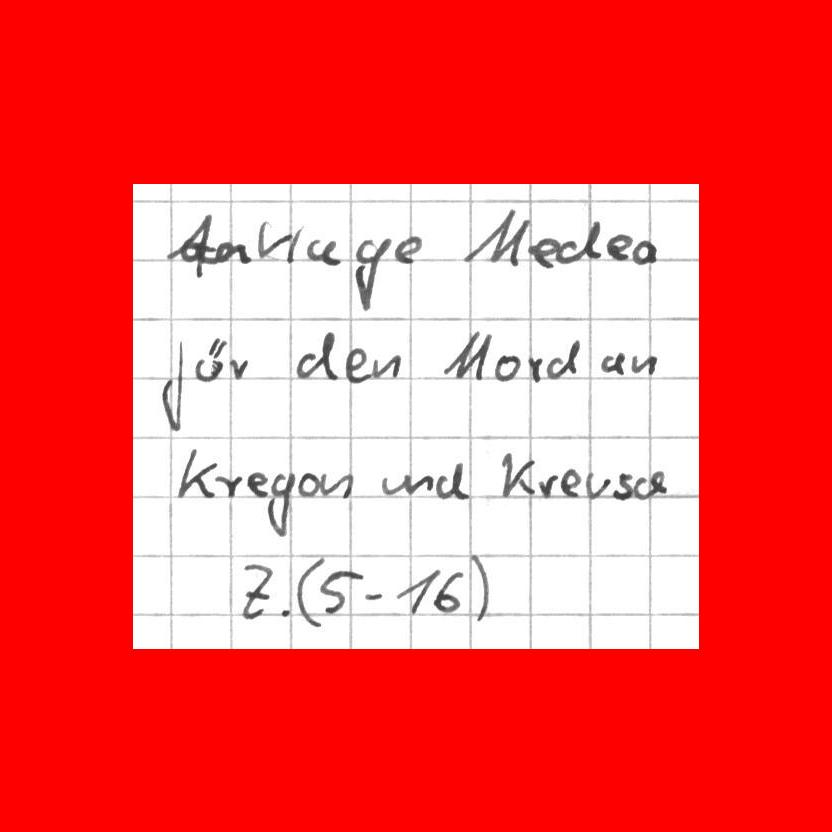Char: (465, 211, 529, 268), (163, 209, 212, 273), (351, 236, 390, 311), (441, 328, 493, 381), (292, 326, 342, 381), (158, 340, 189, 424), (395, 564, 440, 615), (320, 564, 361, 619), (294, 557, 325, 628), (257, 217, 301, 267), (554, 218, 602, 263), (238, 563, 277, 618), (265, 471, 295, 539), (176, 446, 214, 497), (469, 554, 493, 621), (501, 451, 534, 499), (435, 459, 471, 503), (194, 335, 225, 382), (547, 337, 580, 380), (435, 569, 465, 611), (384, 471, 430, 498), (305, 234, 341, 266), (342, 345, 369, 384), (633, 469, 665, 501), (320, 471, 353, 501), (528, 236, 558, 269), (215, 239, 250, 266), (371, 351, 402, 380), (394, 233, 423, 262), (493, 353, 520, 383), (633, 235, 659, 266), (607, 233, 633, 263), (216, 473, 243, 499), (585, 472, 610, 500), (599, 350, 626, 375), (629, 352, 658, 375), (560, 468, 582, 498), (526, 353, 545, 385), (297, 472, 320, 498), (612, 471, 631, 502), (248, 471, 270, 496), (536, 473, 557, 499), (228, 355, 248, 381), (362, 588, 385, 604), (277, 601, 292, 620)
